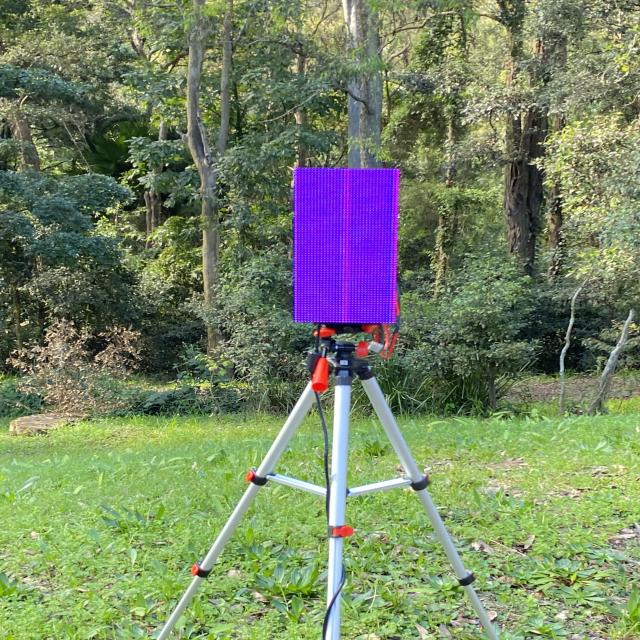matrix: (280, 156, 408, 328)
